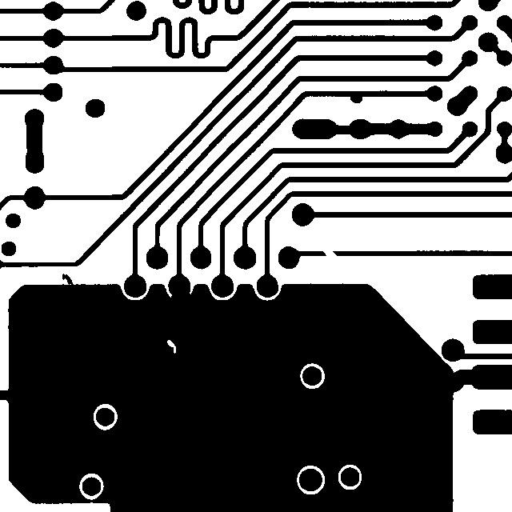open: (315, 239, 344, 267)
pin-hole: (159, 332, 183, 361)
short: (322, 117, 361, 142), (163, 284, 198, 311)
spur: (54, 266, 82, 294), (342, 84, 370, 110)
